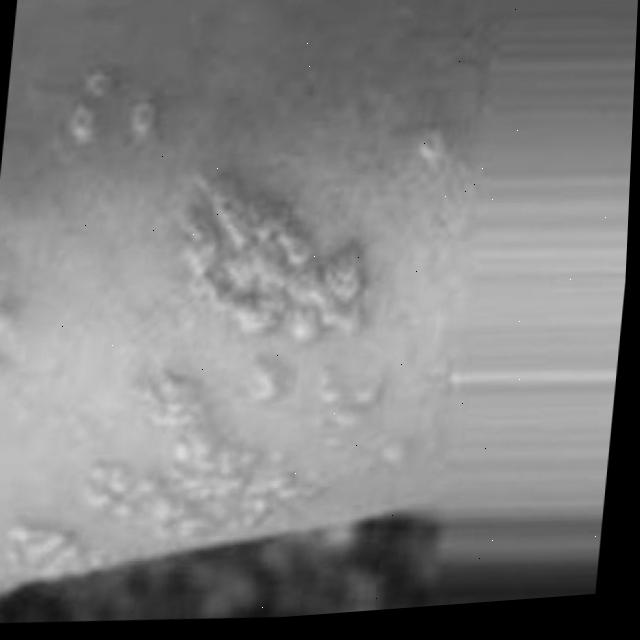Shingles: (77, 347, 423, 565), (156, 145, 383, 360), (59, 61, 166, 150), (0, 510, 111, 584), (408, 125, 455, 171)
